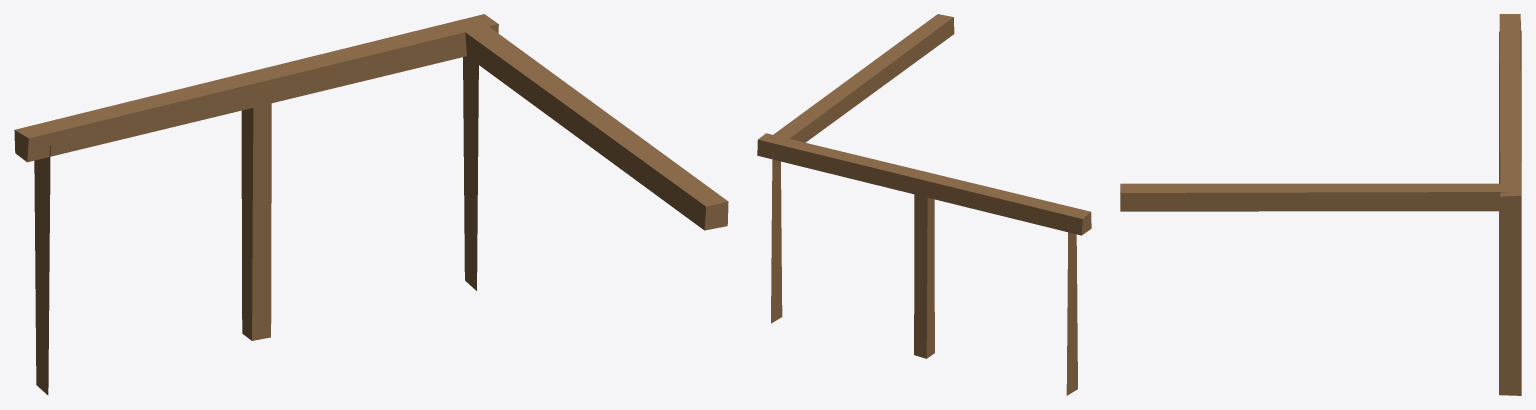
File: harbor-railing-corner.lod2.glb
3 renders of one model, left to right at view 1: azimuth 30°, elevation 25°; view 2: azimuth 150°, elevation 25°; view 3: azimuth 270°, elevation 25°, orthographic. The views are drawn at different scales.
Visible parts, largest first — view 1: harbor-railing-corner__body; view 2: harbor-railing-corner__body; view 3: harbor-railing-corner__body.
Boxes of the visible parts, x1,y1,x2,y2 form: harbor-railing-corner__body: (14,14,728,395); harbor-railing-corner__body: (757,14,1091,395); harbor-railing-corner__body: (1120,14,1521,395).
Bounding box in the file's own units: 1.98 × 1.05 × 1.84.
